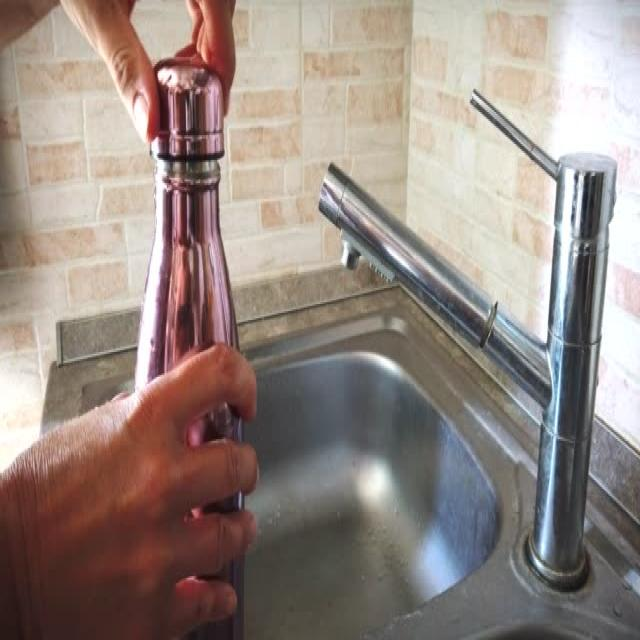metal: (109, 64, 287, 340)
